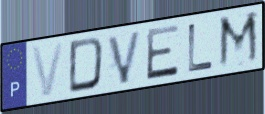D: (67, 35, 106, 96)
E: (144, 22, 181, 83)
L: (187, 21, 216, 74)
M: (217, 9, 261, 72)
V: (29, 40, 67, 99), (106, 28, 144, 87)
